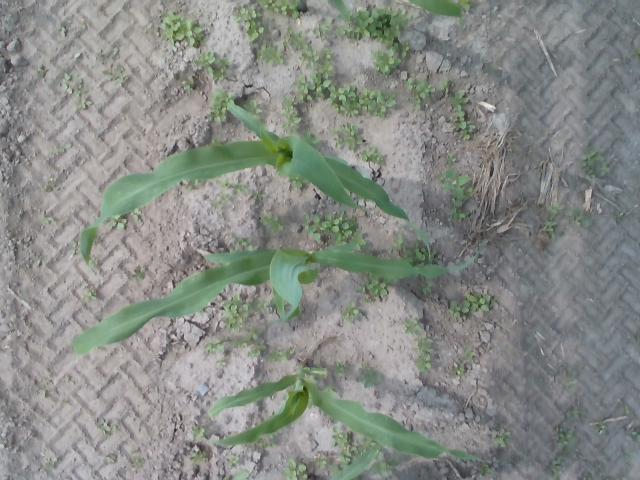Maize: (78, 99, 426, 265), (68, 246, 488, 352), (204, 360, 481, 461), (230, 445, 382, 480), (249, 0, 482, 19)
Weeds: (284, 70, 396, 124), (338, 8, 410, 44), (444, 170, 474, 222), (303, 214, 355, 242), (162, 12, 202, 46), (452, 90, 476, 142), (224, 294, 252, 332), (234, 7, 264, 42), (408, 75, 436, 110), (334, 123, 364, 150), (372, 46, 399, 74), (264, 1, 306, 17), (418, 331, 433, 372), (258, 43, 284, 66), (244, 331, 267, 356), (208, 90, 227, 120), (261, 212, 284, 234), (359, 146, 386, 164), (284, 461, 308, 480), (360, 368, 382, 388), (288, 33, 310, 52), (582, 149, 598, 174), (404, 316, 422, 338), (363, 280, 386, 297), (212, 60, 228, 84), (470, 294, 490, 313), (448, 300, 470, 317), (102, 66, 128, 80), (198, 50, 216, 69), (490, 430, 510, 447), (218, 180, 246, 192), (321, 50, 336, 72), (312, 22, 330, 40), (574, 210, 594, 226), (556, 427, 572, 446), (302, 51, 320, 67), (342, 303, 360, 319), (204, 342, 228, 354), (268, 346, 286, 362), (374, 464, 392, 480), (110, 216, 130, 230), (338, 450, 358, 464), (411, 243, 427, 260), (551, 462, 567, 478), (394, 235, 406, 256), (214, 194, 232, 208), (62, 73, 74, 93), (353, 230, 365, 249), (550, 204, 566, 218), (314, 452, 328, 468), (422, 283, 438, 296), (248, 99, 262, 113), (440, 80, 454, 94), (335, 362, 349, 376), (232, 238, 248, 250), (332, 432, 348, 444), (252, 188, 268, 200), (80, 95, 92, 110), (232, 470, 250, 480), (133, 269, 145, 283), (454, 362, 466, 376), (600, 165, 612, 178), (39, 64, 50, 78), (443, 155, 457, 166), (81, 293, 98, 302), (192, 453, 207, 463), (544, 221, 556, 233), (400, 44, 410, 58), (100, 420, 111, 432), (182, 80, 195, 90), (58, 143, 72, 152), (229, 456, 240, 467), (194, 426, 204, 438), (134, 456, 146, 466), (468, 347, 478, 358), (90, 256, 100, 267), (566, 379, 578, 388), (44, 214, 54, 224), (480, 466, 489, 476), (598, 424, 606, 432)
